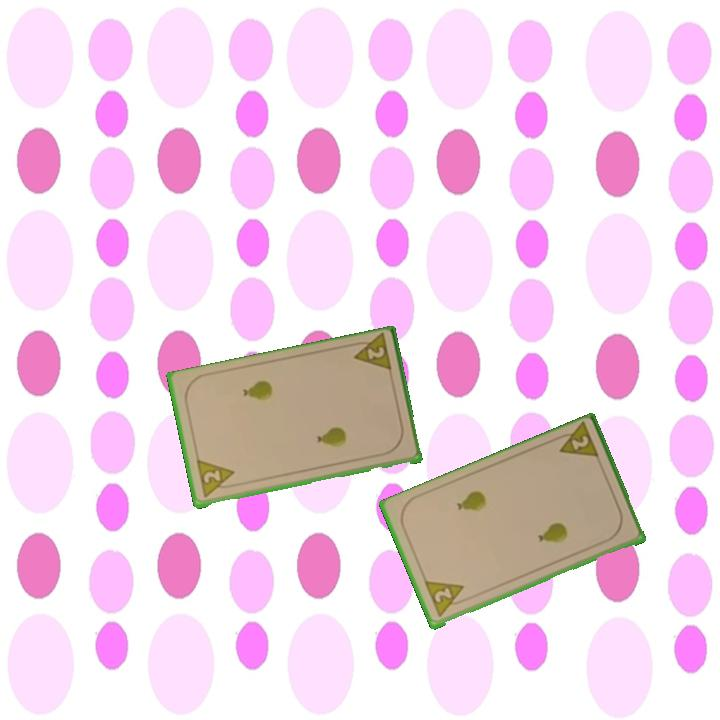2p: (551, 420, 602, 463), (421, 578, 471, 620), (193, 457, 239, 502), (348, 332, 394, 376)
